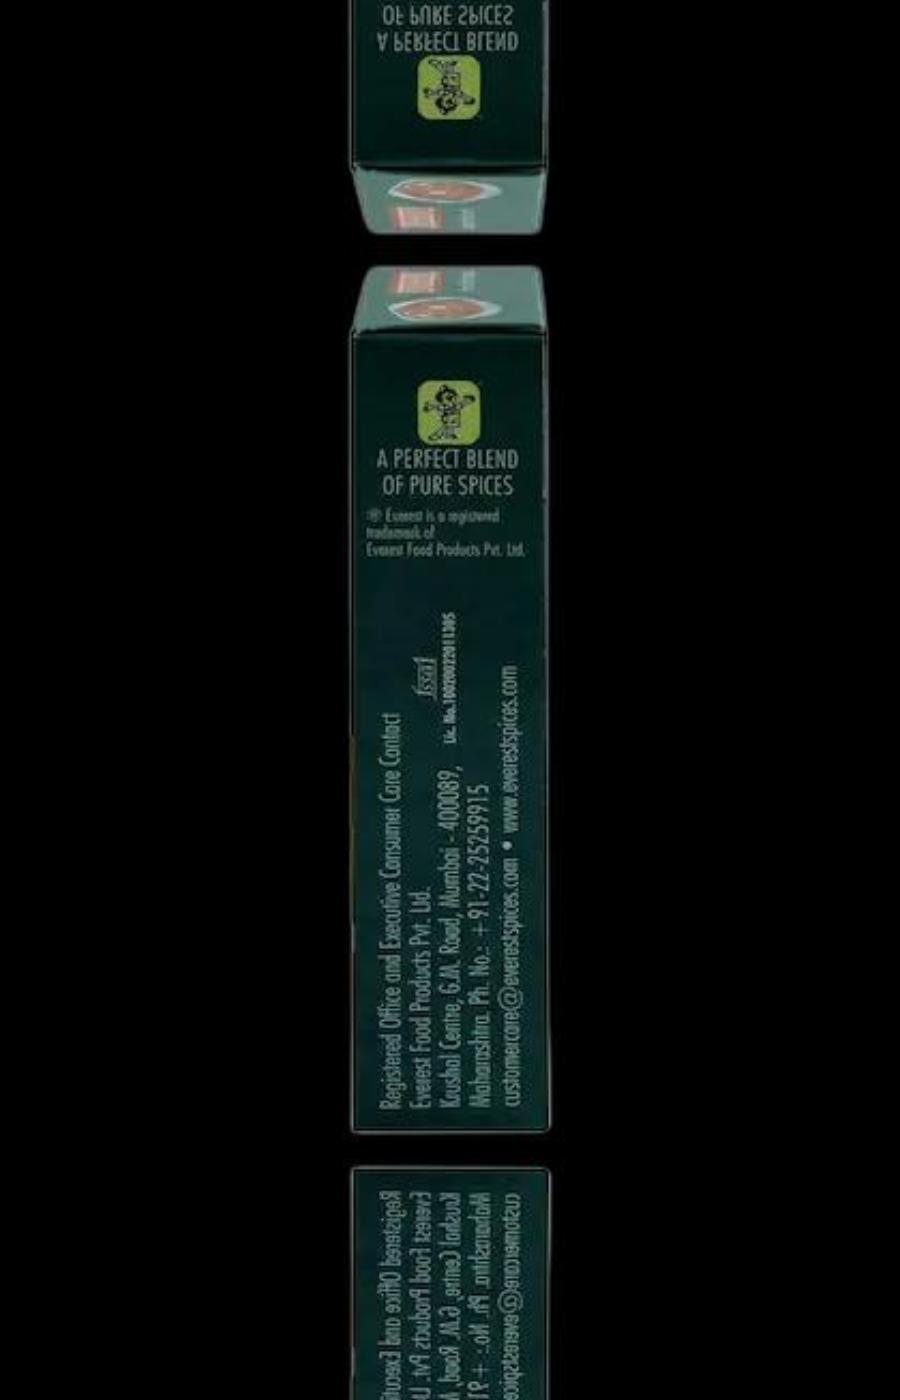Everest Pav Bhaji Masala 100 g: (347, 266, 551, 1134), (347, 1166, 551, 1400), (347, 0, 551, 233)
